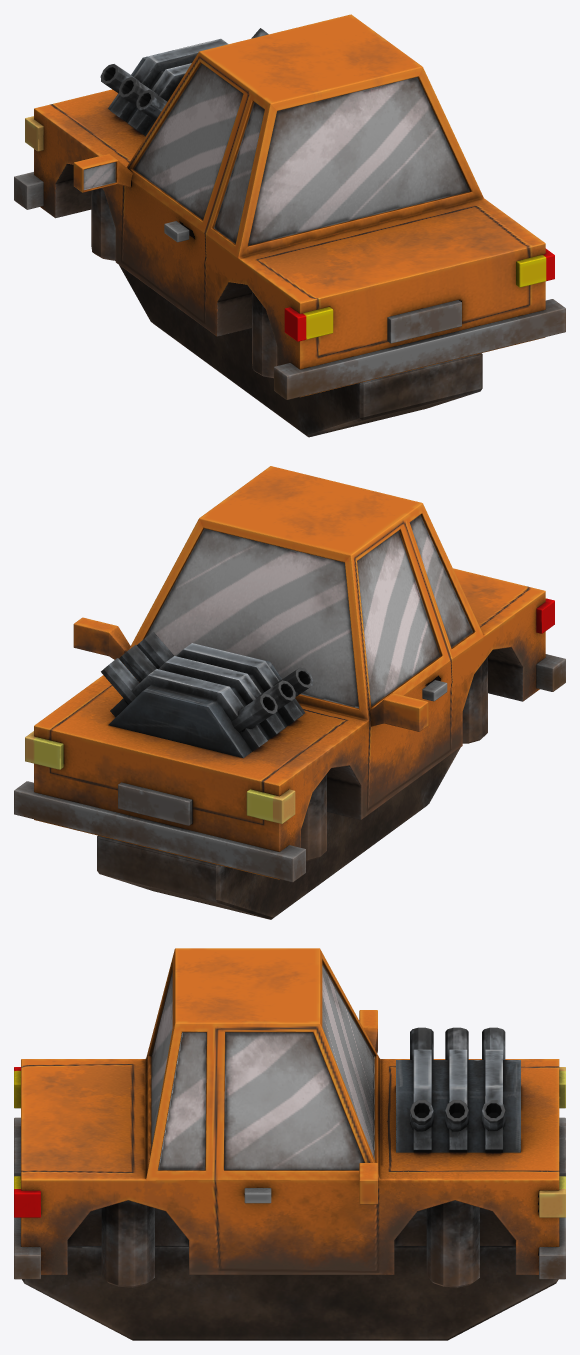
File: Buggy.fbx
3 renders of one model, top to bottom at view 1: azimuth 30°, elevation 25°; view 2: azimuth 150°, elevation 25°; view 3: azimuth 270°, elevation 25°, orthographic.
Parts seen in each view (by area): view 1: BuggyModel; view 2: BuggyModel; view 3: BuggyModel.
Boxes of the visible parts, left/top/right/bottom form: BuggyModel: left=14, top=14, right=565, bottom=437; BuggyModel: left=14, top=466, right=565, bottom=919; BuggyModel: left=14, top=948, right=565, bottom=1340.
Bounding box in the file's own units: 282 × 251 × 385.
